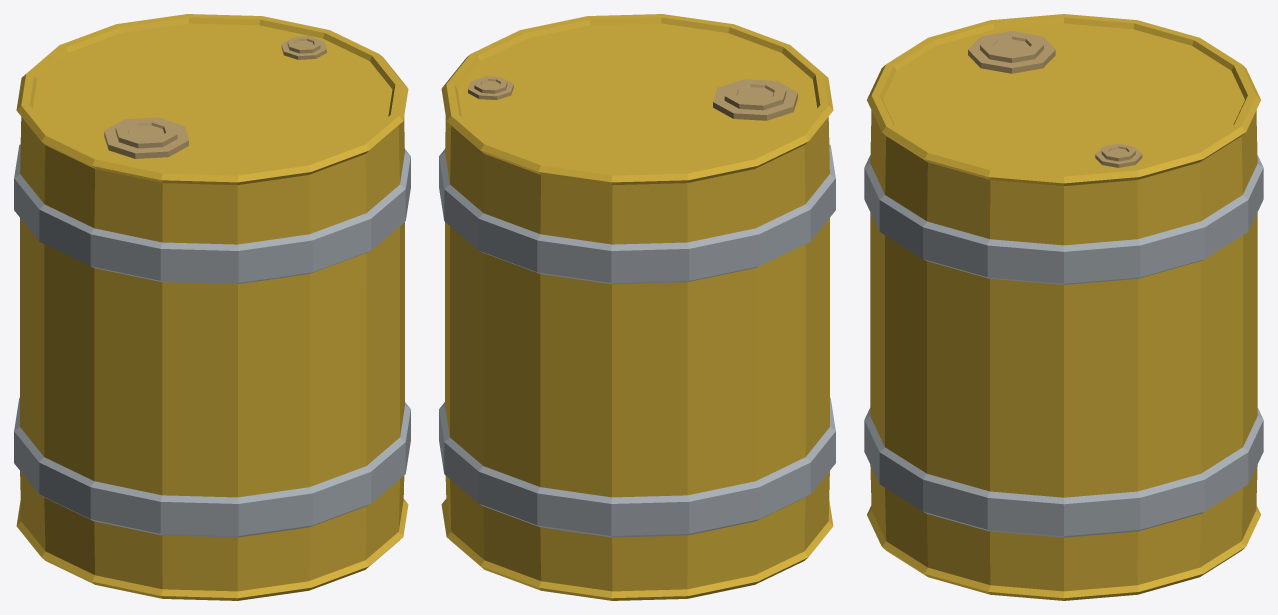
File: SM_Barrel_2B.fbx
3 views of the same model, side by side, from view 1: azimuth 30°, elevation 25°; view 2: azimuth 150°, elevation 25°; view 3: azimuth 270°, elevation 25° (orthographic).
Visible parts, largest first — view 1: SM_Barrel_2B_LOD0; view 2: SM_Barrel_2B_LOD0; view 3: SM_Barrel_2B_LOD0.
Part boxes in pixels (x1,y1,x2,y2): SM_Barrel_2B_LOD0: (14, 14, 410, 600); SM_Barrel_2B_LOD0: (439, 14, 835, 600); SM_Barrel_2B_LOD0: (864, 14, 1263, 600).
Bounding box in the file's own units: 88.79 × 88.79 × 106.
1 material, 1 textured.
